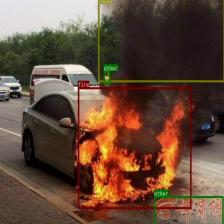fire: (78, 87, 191, 208)
smoke: (97, 0, 224, 81)
